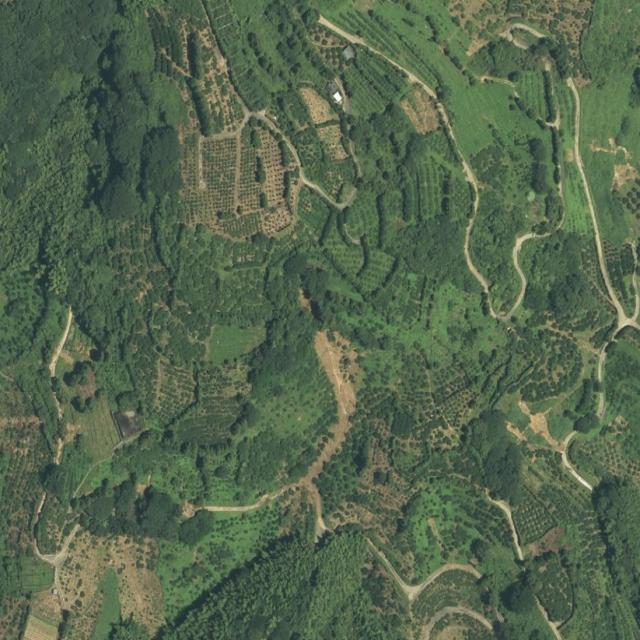landslide: (59, 532, 165, 637), (301, 332, 361, 485)
